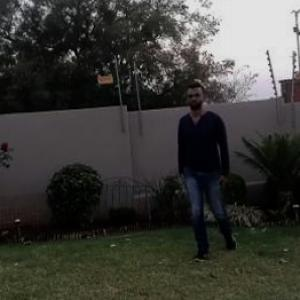follow: (176, 87, 229, 245)
